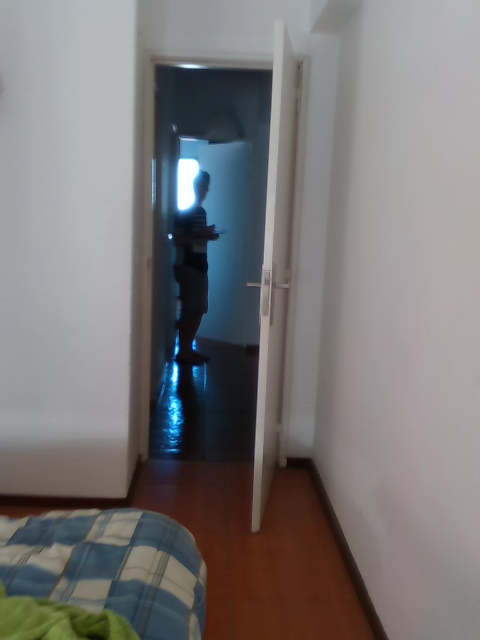open: (138, 22, 308, 534)
